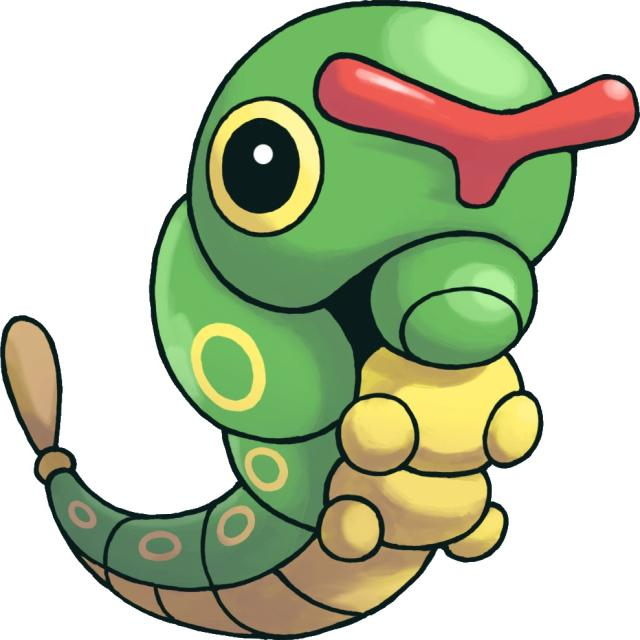Caterpie: (144, 4, 592, 622)
